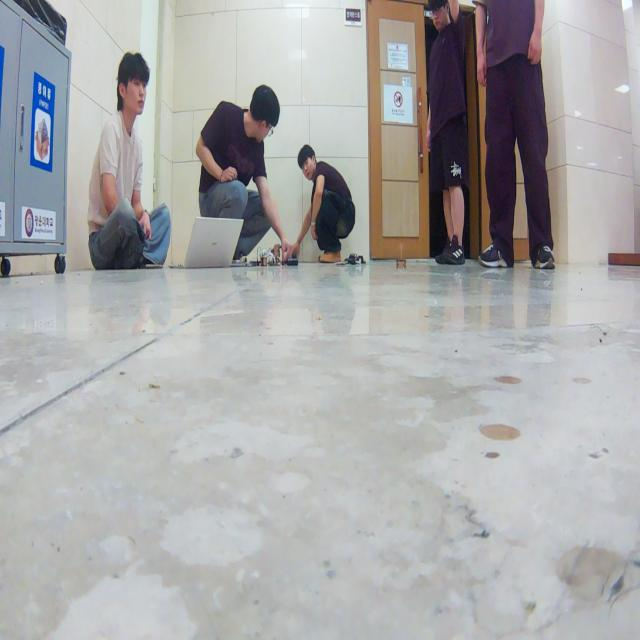target: (396, 243, 406, 269)
